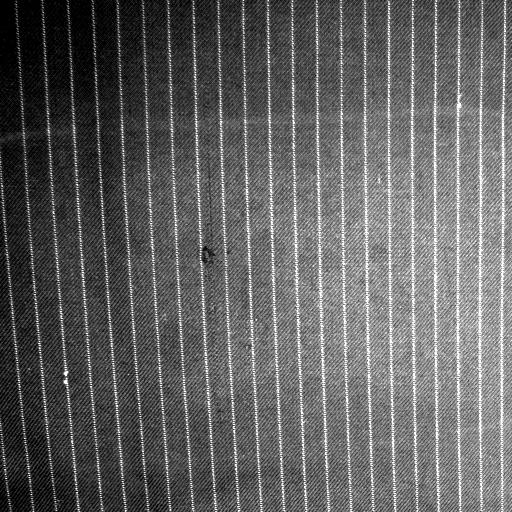fabric_hole: (193, 240, 221, 272)
